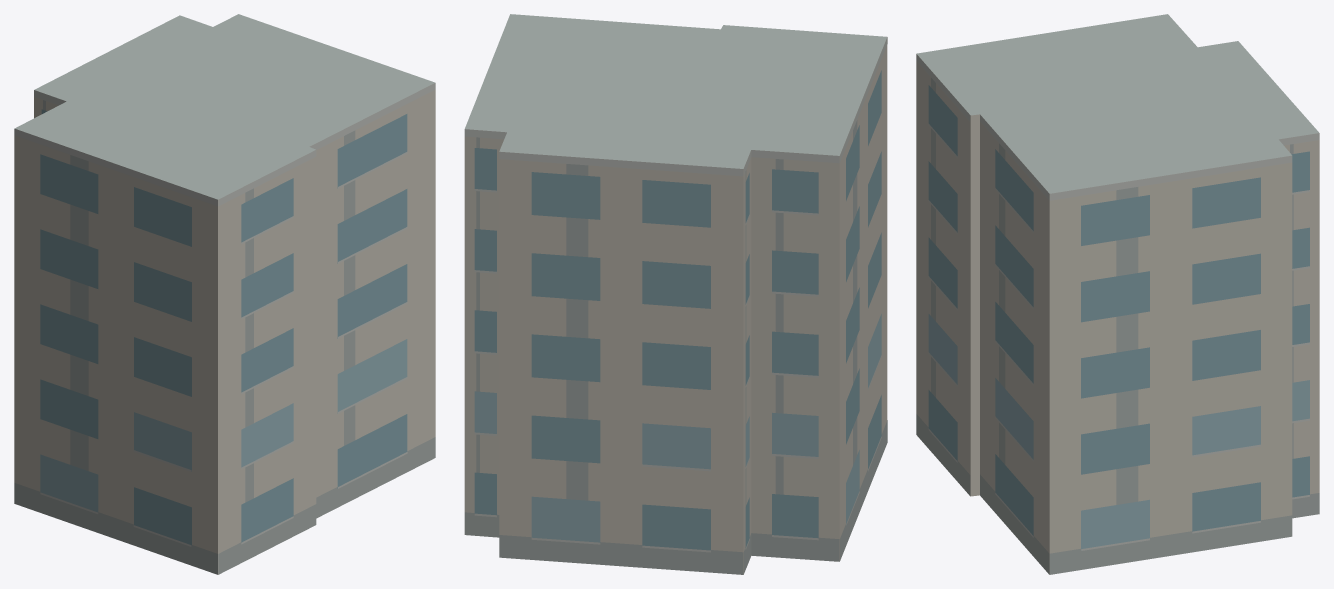
Rendered from survey-upis-32865171.glb.
The picture shows the model from 3 angles, left to right: view 1: azimuth 30°, elevation 25°; view 2: azimuth 150°, elevation 25°; view 3: azimuth 270°, elevation 25°; orthographic projection. The views are drawn at different scales.
Visible parts, largest first — view 1: survey-upis-32865171.tmp; view 2: survey-upis-32865171.tmp; view 3: survey-upis-32865171.tmp.
Part boxes in pixels (x1=…): survey-upis-32865171.tmp: x1=14, y1=14, x2=435, y2=574; survey-upis-32865171.tmp: x1=464, y1=14, x2=887, y2=574; survey-upis-32865171.tmp: x1=916, y1=14, x2=1319, y2=574.
Bounding box in the file's own units: 13.57 × 13.4 × 12.87.
